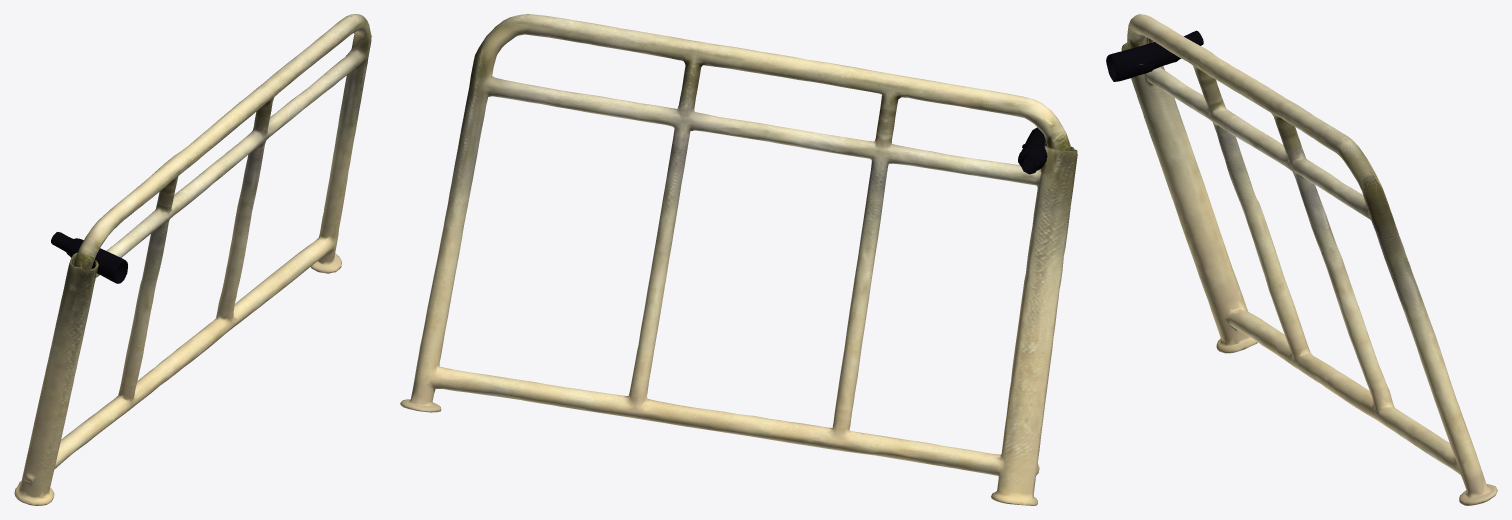
File: gt_turnstile.glb
3 renders of one model, left to right at view 1: azimuth 30°, elevation 25°; view 2: azimuth 150°, elevation 25°; view 3: azimuth 270°, elevation 25°, orthographic. The views are drawn at different scales.
Size of the model in its own units: 0.9199 by 0.7389 by 0.6375.
Materials: 1 (1 with a texture image).
